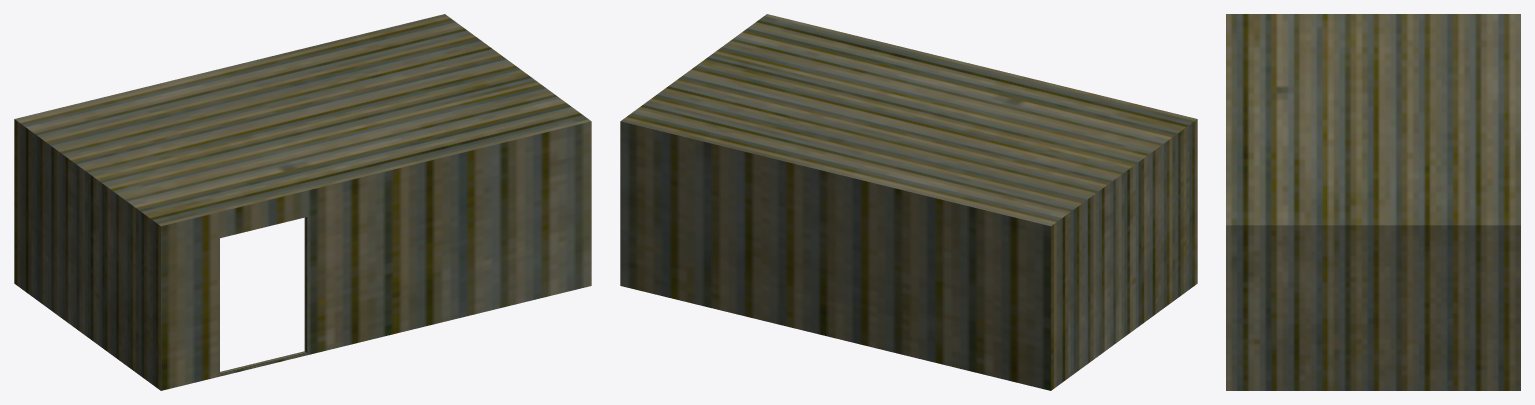
Rendered from room.fbx.
The picture shows the model from 3 angles, left to right: view 1: azimuth 30°, elevation 25°; view 2: azimuth 150°, elevation 25°; view 3: azimuth 270°, elevation 25°; orthographic projection.
Parts seen in each view (by area): view 1: room; view 2: room; view 3: room.
Boxes of the visible parts, box(x1,y1,x2,y2) form: room: box(14, 14, 591, 390); room: box(620, 14, 1197, 390); room: box(1226, 14, 1520, 390).
Bounding box in the file's own units: 2786 × 1018 × 1643.
Materials: 1 (1 with a texture image).
